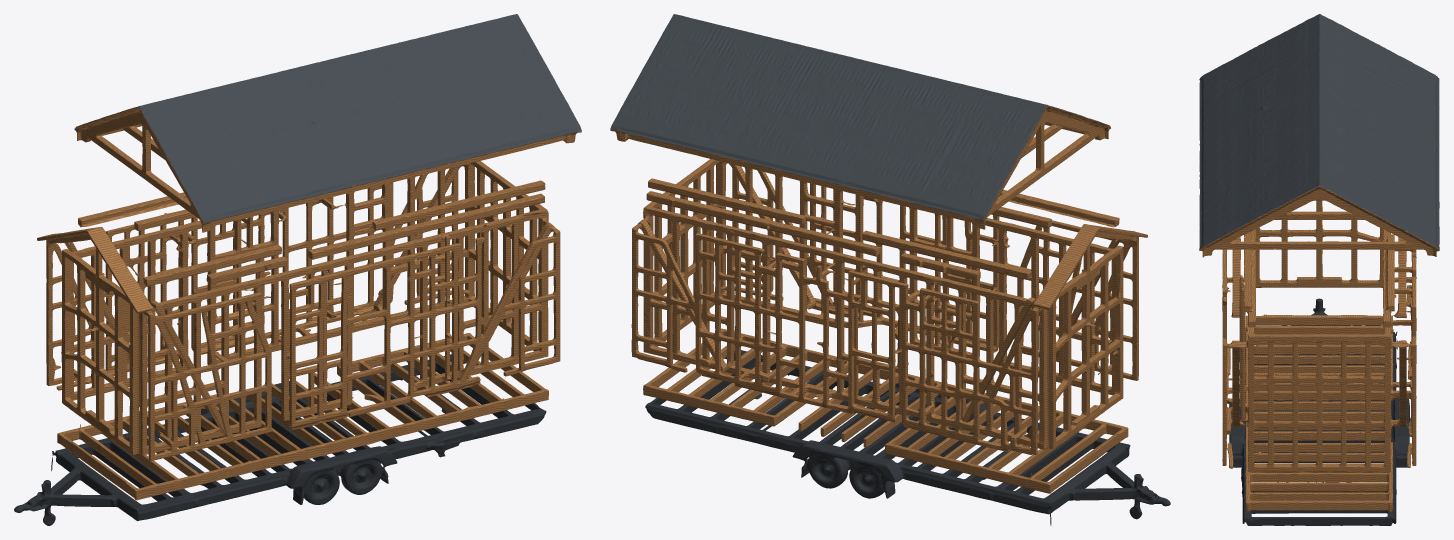
File: chale-texturizado-web-draco.glb
3 renders of one model, left to right at view 1: azimuth 30°, elevation 25°; view 2: azimuth 150°, elevation 25°; view 3: azimuth 270°, elevation 25°, orthographic. The views are drawn at different scales.
Parts seen in each view (by area): view 1: Paineis estruturais, Cobertura e tesouras, Base e chassi, Piso estrutural, Travessa 010, Travessa 011, Travessa 003, Travessa 005, Travessa 004, Travessa 008; view 2: Paineis estruturais, Cobertura e tesouras, Base e chassi, Piso estrutural, Travessa 009, Travessa 005, Travessa 012, Travessa 003, Travessa 007; view 3: Cobertura e tesouras, Piso estrutural, Paineis estruturais, Base e chassi, Travessa 011, Travessa 012, Travessa 004, Travessa 010, Travessa 009.
Boxes of the visible parts, bbox=[...] form: Paineis estruturais: bbox=[37, 161, 560, 460]; Cobertura e tesouras: bbox=[74, 14, 581, 232]; Base e chassi: bbox=[14, 354, 546, 525]; Piso estrutural: bbox=[57, 333, 548, 500]; Travessa 010: bbox=[308, 193, 544, 259]; Travessa 011: bbox=[356, 180, 545, 233]; Travessa 003: bbox=[143, 244, 286, 286]; Travessa 005: bbox=[78, 192, 187, 227]; Travessa 004: bbox=[150, 301, 225, 435]; Travessa 008: bbox=[206, 256, 287, 284]; Paineis estruturais: bbox=[631, 159, 1147, 454]; Cobertura e tesouras: bbox=[610, 14, 1110, 229]; Base e chassi: bbox=[645, 350, 1170, 525]; Piso estrutural: bbox=[643, 328, 1128, 493]; Travessa 009: bbox=[646, 191, 880, 256]; Travessa 005: bbox=[862, 230, 1031, 279]; Travessa 012: bbox=[648, 178, 805, 224]; Travessa 003: bbox=[999, 189, 1119, 227]; Travessa 007: bbox=[901, 253, 980, 280]; Cobertura e tesouras: bbox=[1199, 14, 1439, 257]; Piso estrutural: bbox=[1245, 314, 1392, 511]; Paineis estruturais: bbox=[1222, 200, 1416, 472]; Base e chassi: bbox=[1229, 298, 1410, 525]; Travessa 011: bbox=[1244, 232, 1253, 311]; Travessa 012: bbox=[1385, 234, 1394, 311]; Travessa 004: bbox=[1231, 236, 1240, 317]; Travessa 010: bbox=[1248, 229, 1255, 327]; Travessa 009: bbox=[1383, 229, 1391, 327].
Size of the model in its own units: 1.86 by 1.4 by 0.8275.
Materials: 3 (1 with a texture image).
